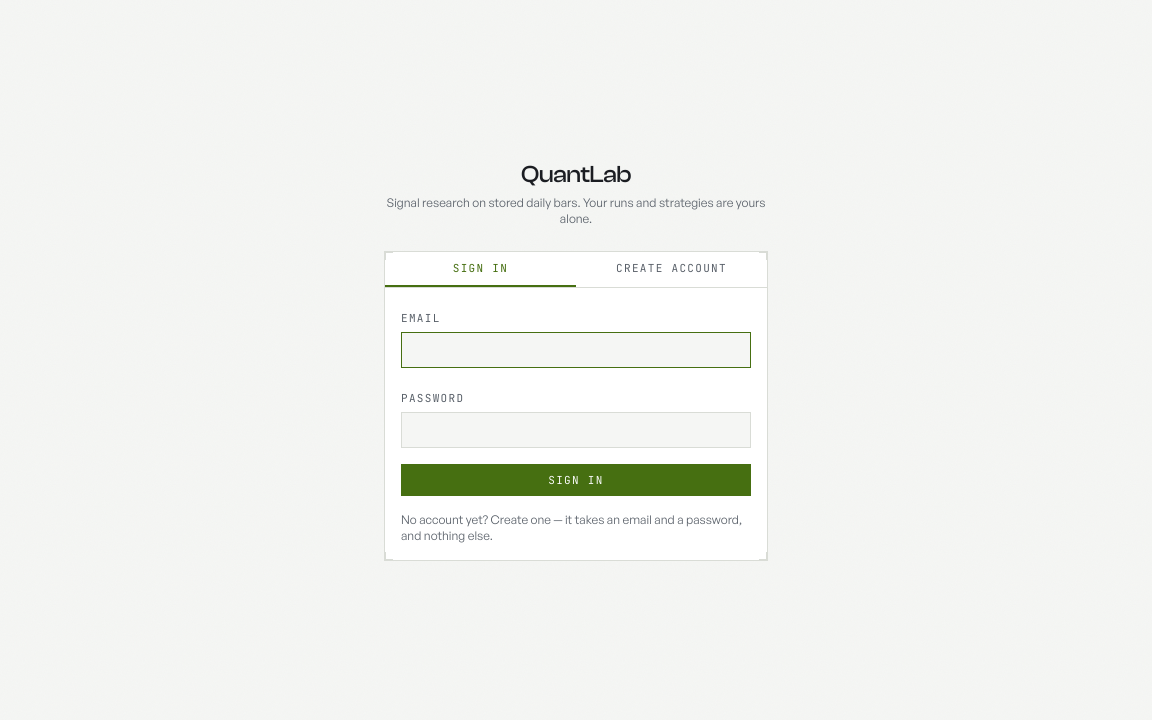
Test: LoginScreen › submits trimmed credentials and disables the button while it waits
Step 1. Type "  quant@example.com  " into the field labelled "Email" → [576, 350], box top-left (401, 332), bottom-right (751, 368)
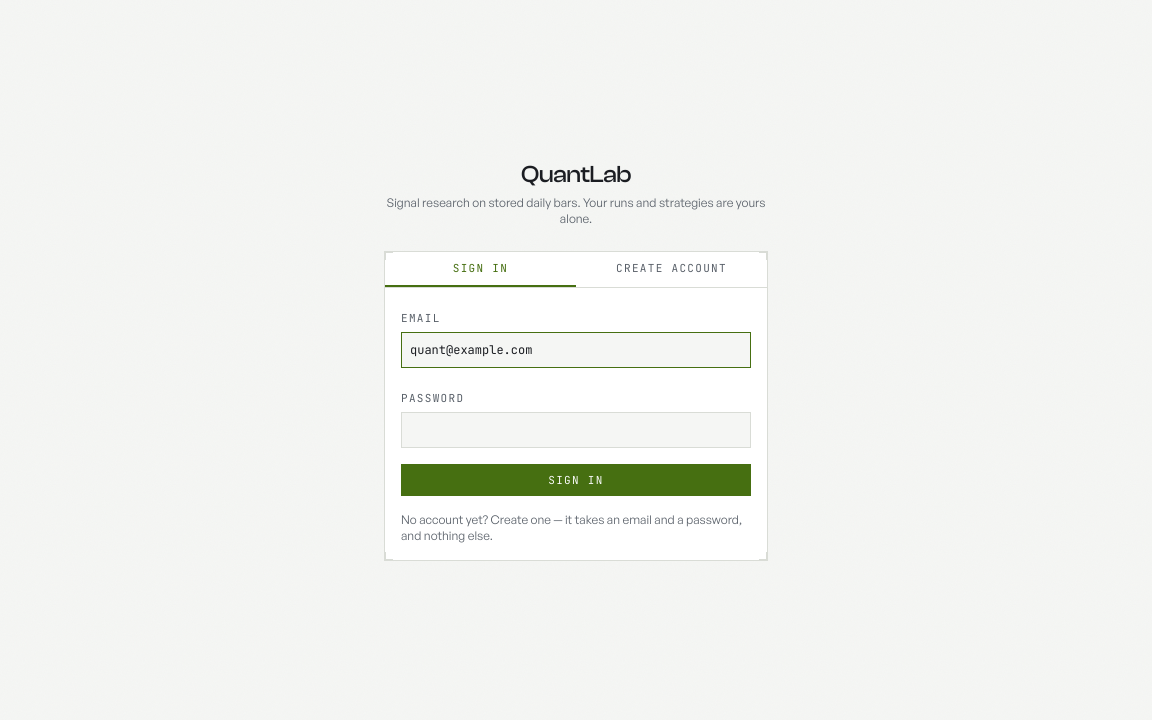
Step 2. Type "hunter22" into the password field labelled "Password" → [576, 430], box top-left (401, 412), bottom-right (751, 448)
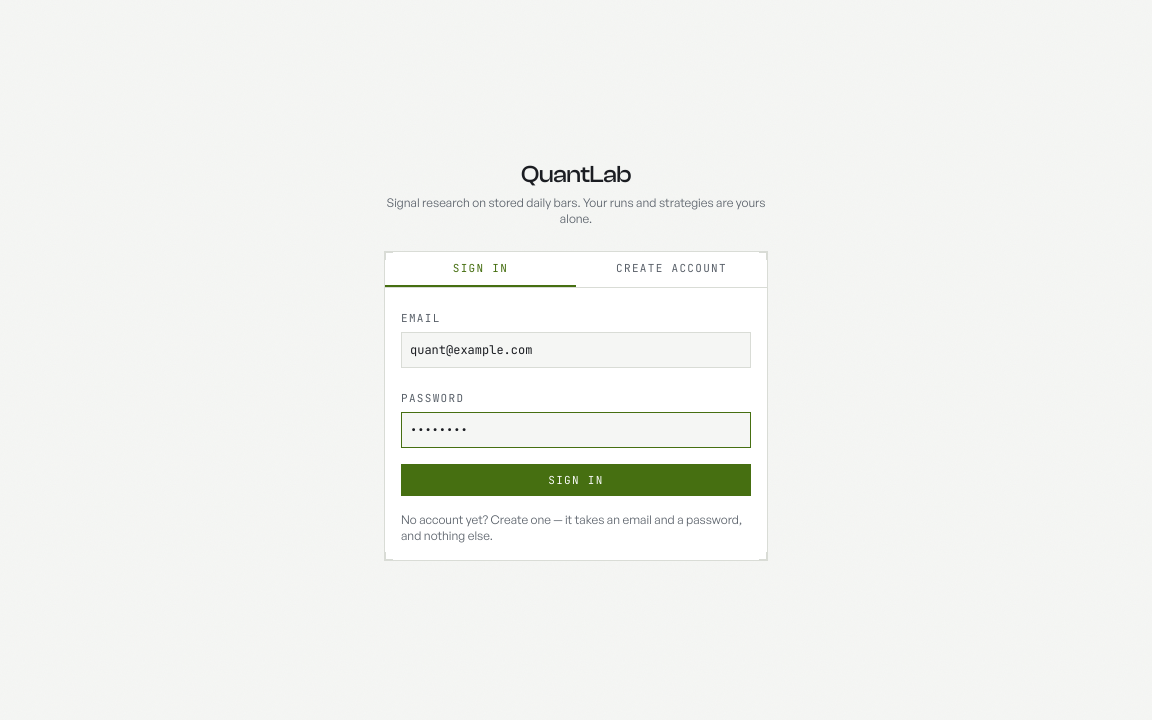
Step 3. Click the button "Sign in" → [576, 480], box top-left (401, 464), bottom-right (751, 496)
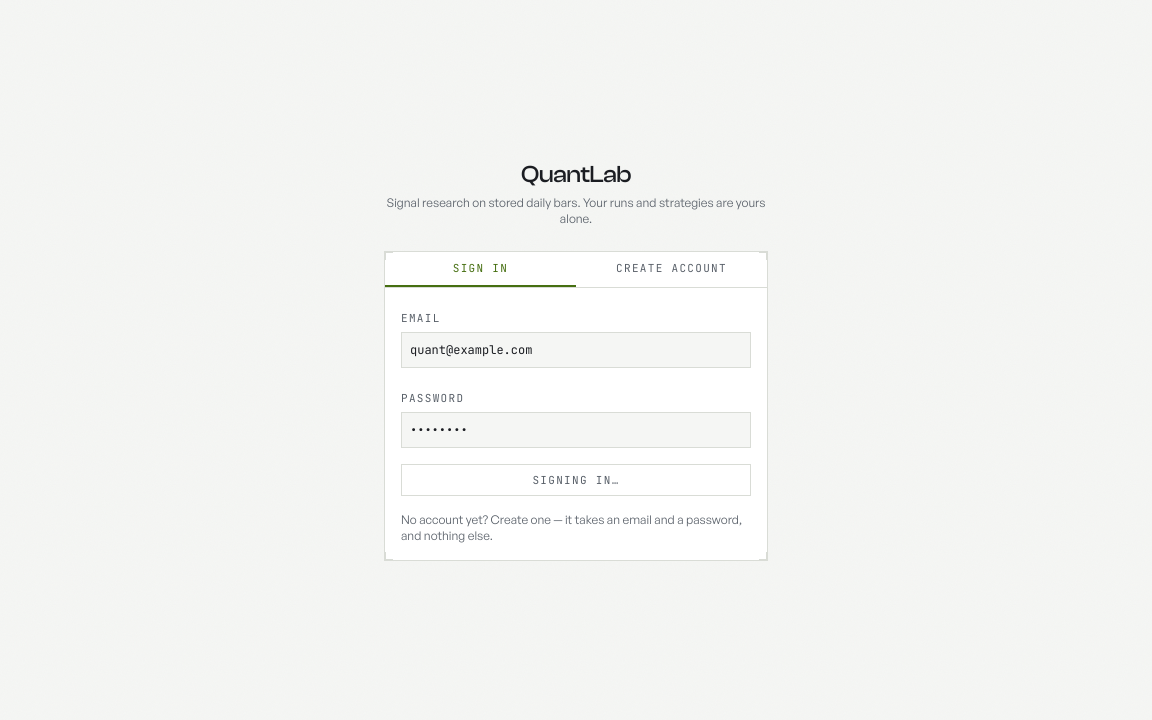
Result: the button "Signing in…" is disabled at top-left (401, 464), bottom-right (751, 496)
